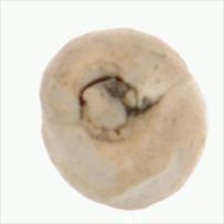L3: (75, 74, 160, 140)
L4: (39, 28, 207, 209)
